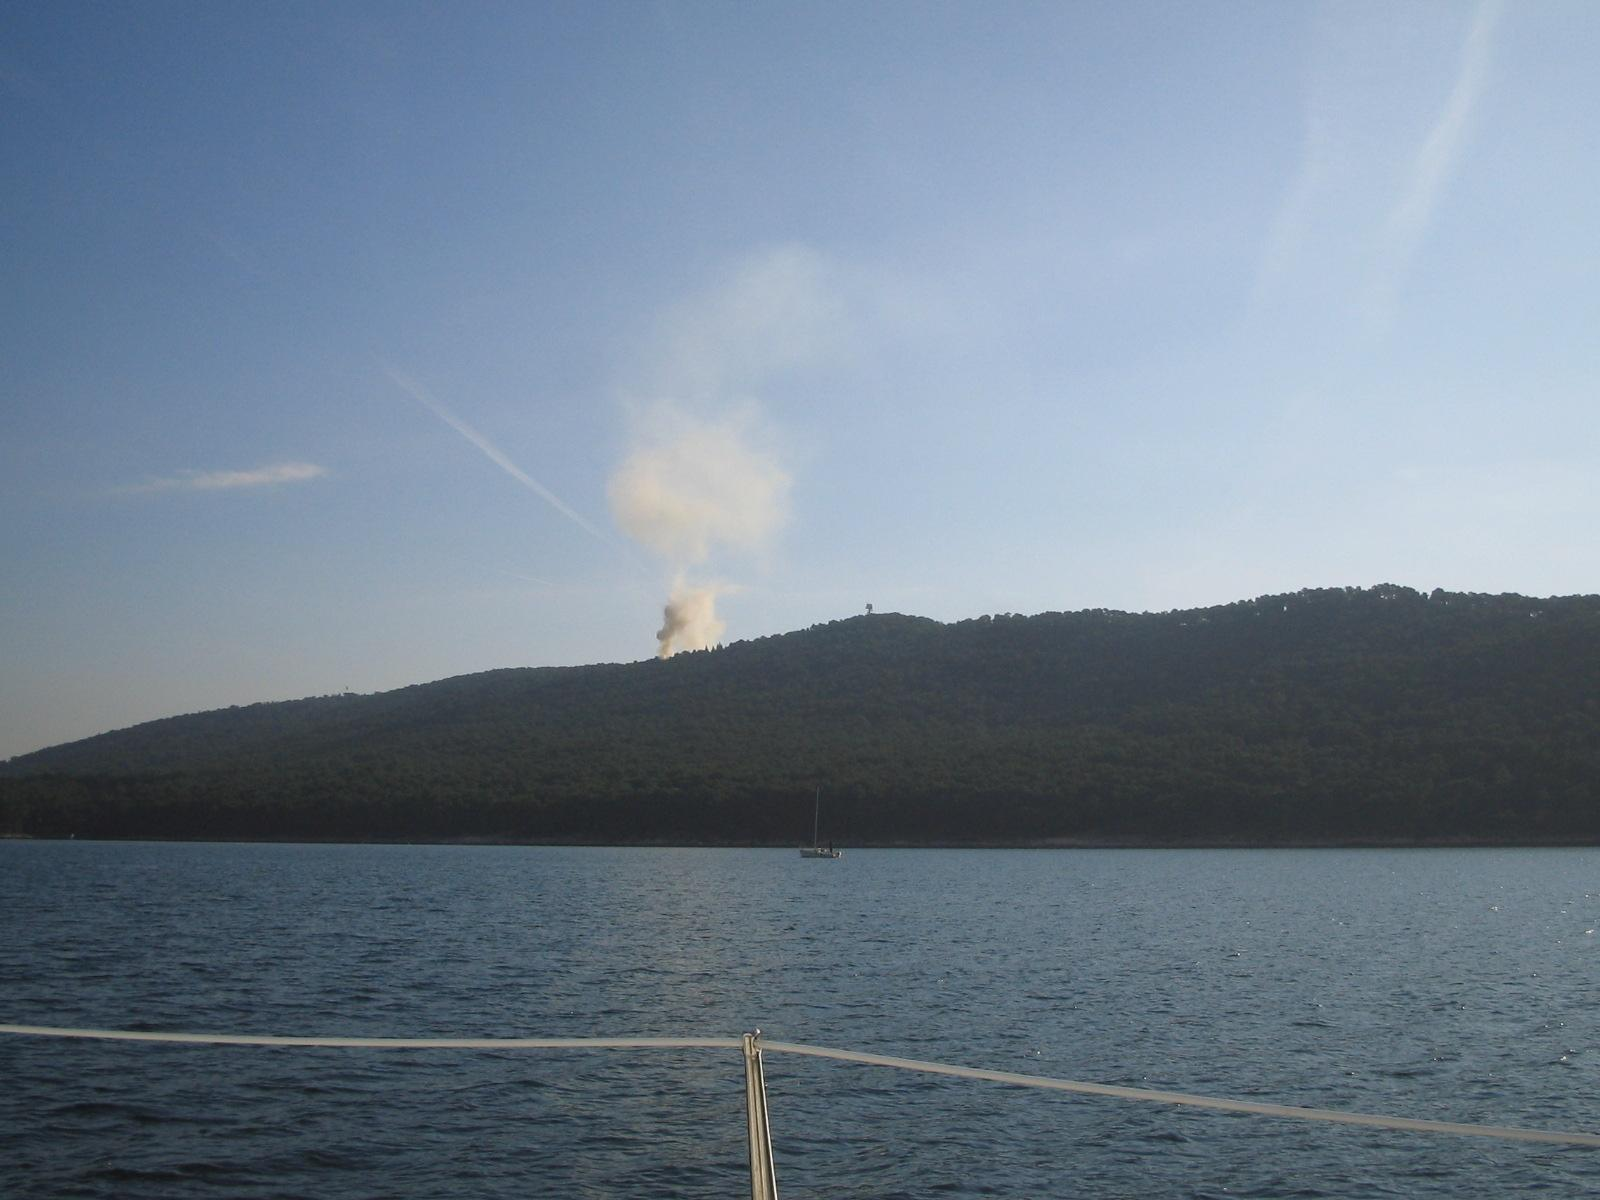Smoke: (624, 272, 845, 663)
